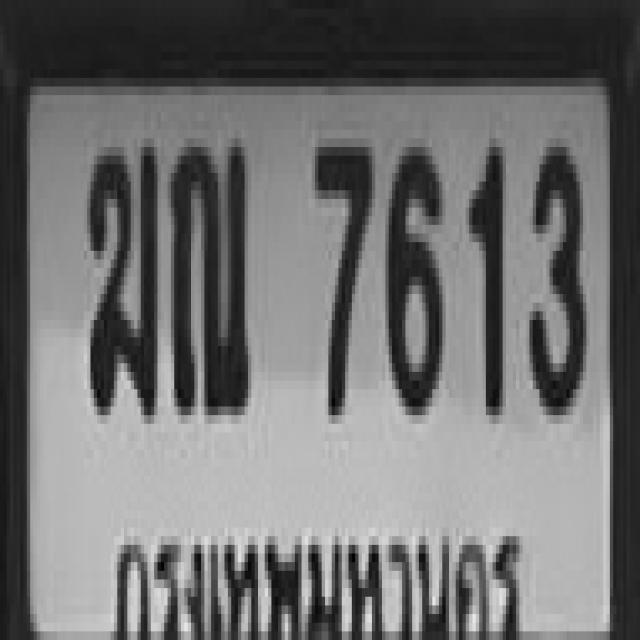1: (466, 138, 502, 406)
15KhorRaKhang: (84, 143, 154, 411)
28NorNen: (167, 130, 248, 406)
3: (526, 138, 583, 406)
6: (384, 138, 441, 406)
7: (312, 138, 368, 406)
Bangkok: (110, 506, 532, 640)
